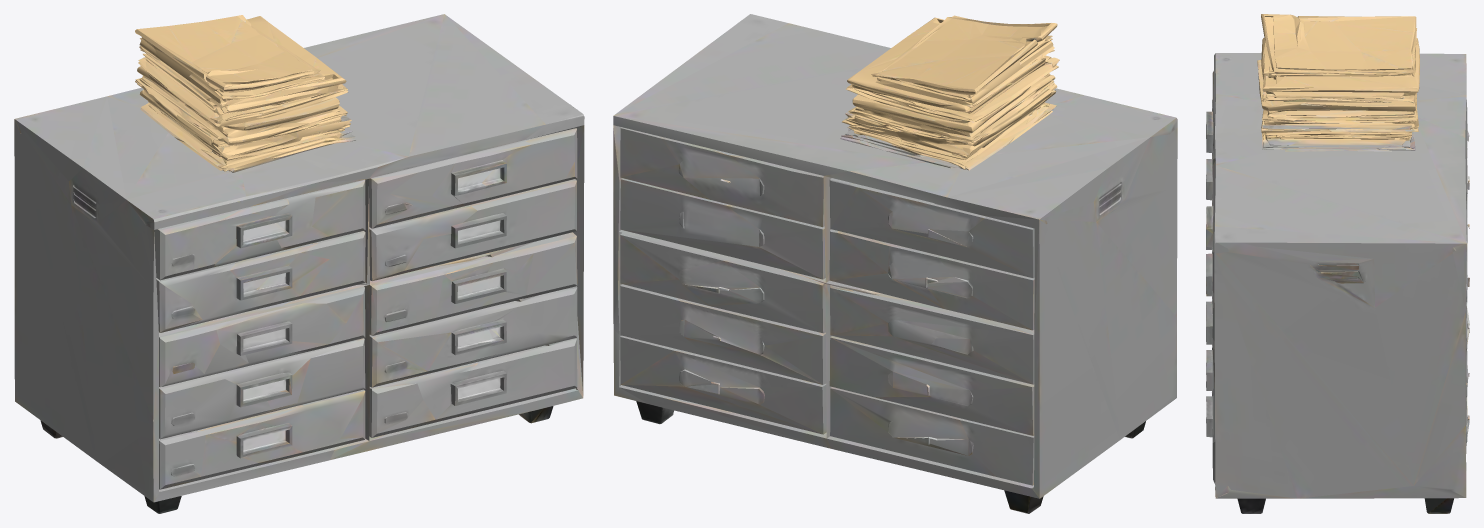
The model's file is flatFiles.glb.
The picture shows the model from 3 angles, left to right: view 1: azimuth 30°, elevation 25°; view 2: azimuth 150°, elevation 25°; view 3: azimuth 270°, elevation 25°; orthographic projection. The views are drawn at different scales.
Bounding box in the file's own units: 1.9 × 1.69 × 1.12.
Materials: 1 (1 with a texture image).
